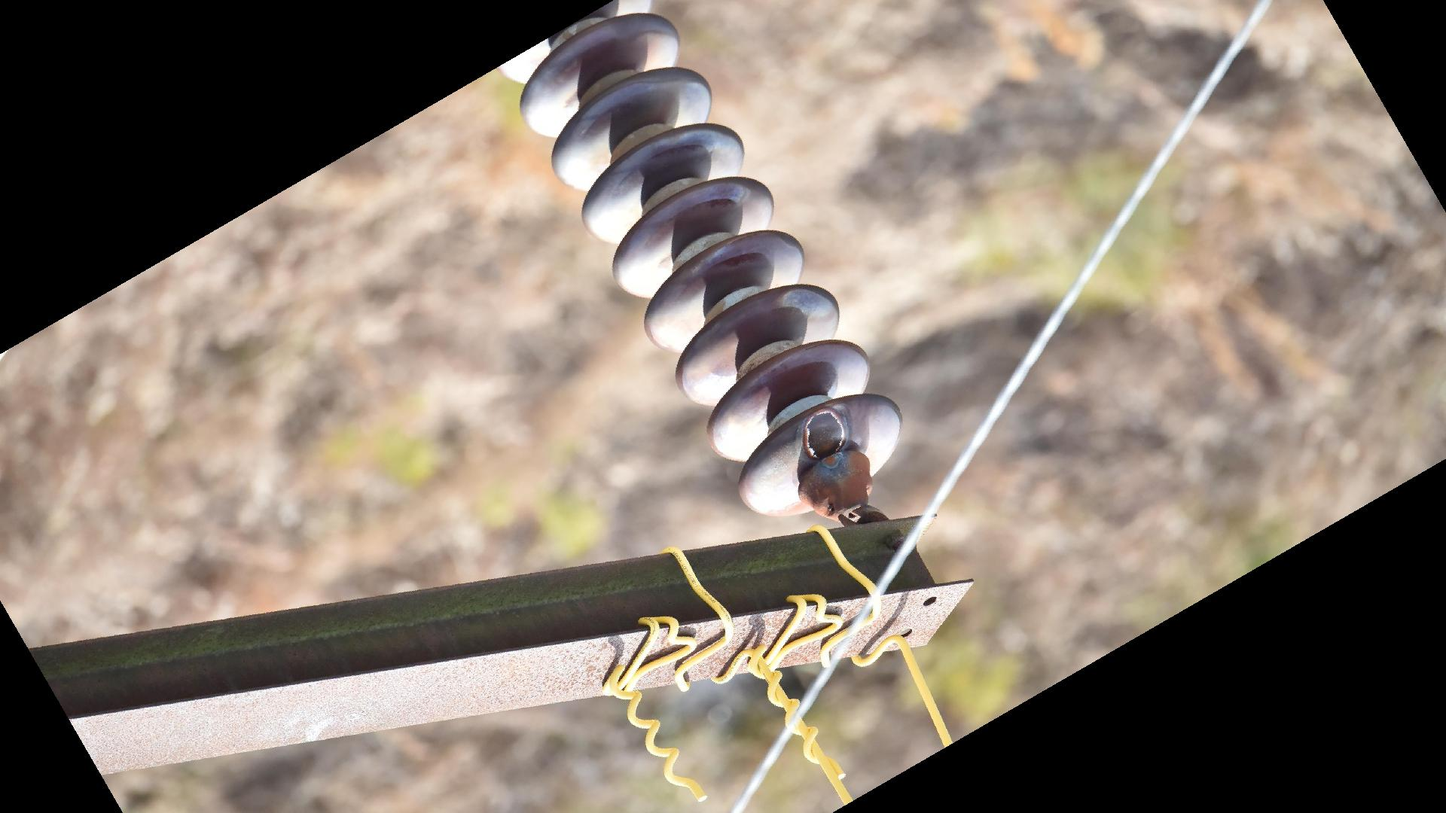insulator: (494, 1, 911, 524)
insulator_flashover: (802, 406, 847, 459)
